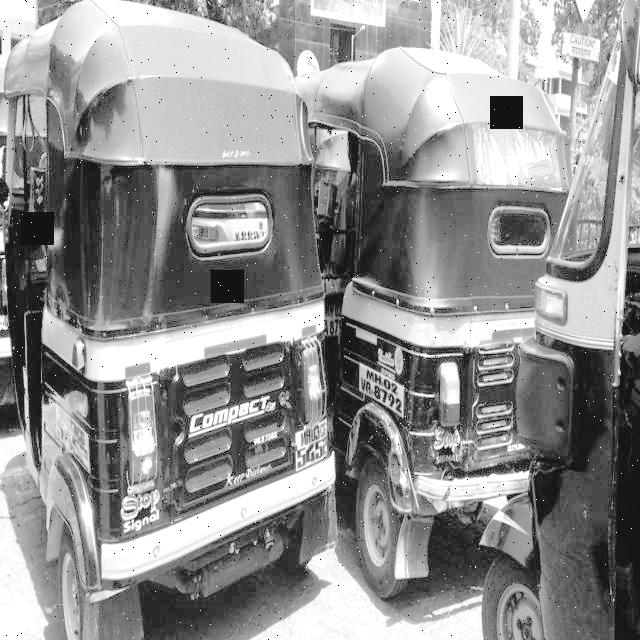Auto-Rickshaw: (2, 4, 358, 640), (293, 48, 579, 613), (503, 1, 640, 640)
